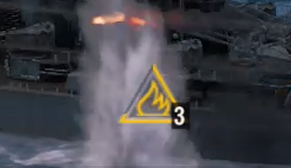3fire: (115, 93, 190, 131)
